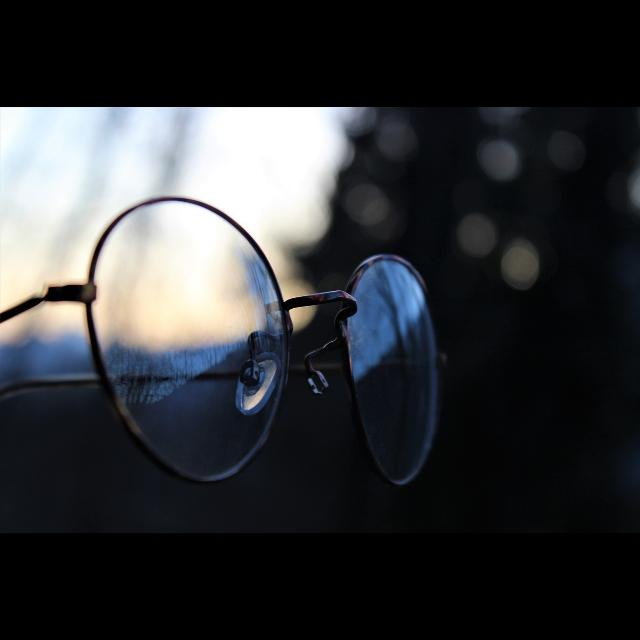glasses: (43, 191, 444, 489)
